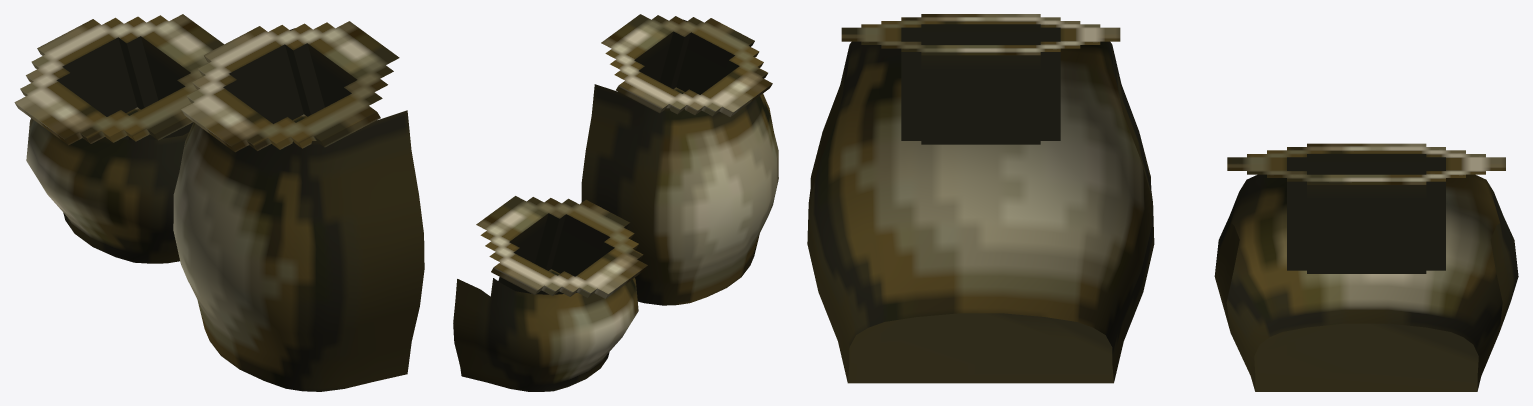
The model's file is ObjMD_Vase_A.FBX.
3 renders of one model, left to right at view 1: azimuth 30°, elevation 25°; view 2: azimuth 150°, elevation 25°; view 3: azimuth 270°, elevation 25°, orthographic. The views are drawn at different scales.
Visible parts, largest first — view 1: ObjMD_Vase_A, ObjMD_Vase_A_small; view 2: ObjMD_Vase_A, ObjMD_Vase_A_small; view 3: ObjMD_Vase_A, ObjMD_Vase_A_small.
Boxes of the visible parts, bbox=[...] form: ObjMD_Vase_A: bbox=[173, 21, 424, 391]; ObjMD_Vase_A_small: bbox=[14, 14, 224, 263]; ObjMD_Vase_A: bbox=[581, 14, 778, 305]; ObjMD_Vase_A_small: bbox=[453, 196, 647, 391]; ObjMD_Vase_A: bbox=[807, 14, 1154, 383]; ObjMD_Vase_A_small: bbox=[1214, 143, 1518, 391].
Bounding box in the file's own units: 68.21 × 107 × 201.
